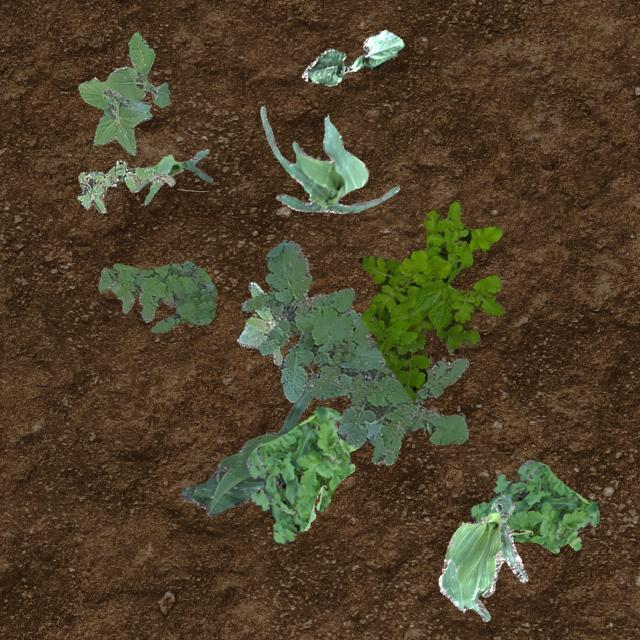crop: (178, 374, 314, 516), (260, 106, 398, 212), (438, 494, 526, 620), (300, 29, 404, 84), (129, 148, 211, 205)
weed: (240, 240, 468, 464), (358, 200, 504, 400), (245, 406, 358, 544), (468, 459, 598, 552), (78, 30, 168, 154), (98, 260, 216, 332), (76, 158, 175, 212), (237, 280, 280, 364)
